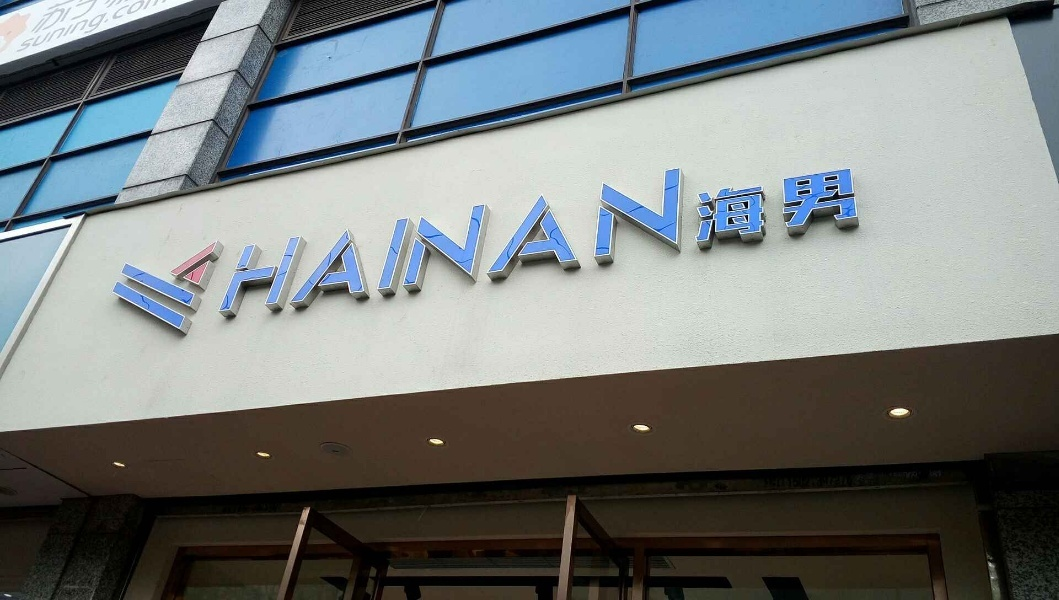text: (241, 162, 256, 326), (257, 162, 272, 326), (273, 162, 288, 326), (289, 162, 304, 326), (305, 162, 320, 326), (321, 162, 336, 326), (337, 162, 352, 326), (353, 162, 368, 326), (369, 162, 384, 326), (385, 162, 400, 326), (401, 162, 416, 326), (417, 162, 432, 326), (433, 162, 448, 326), (449, 162, 464, 326), (465, 162, 480, 326), (481, 162, 496, 326), (497, 162, 512, 326), (513, 162, 528, 326), (529, 162, 544, 326), (545, 162, 560, 326), (561, 162, 576, 326), (577, 162, 592, 326), (593, 162, 608, 326), (609, 162, 624, 326), (625, 162, 640, 326), (641, 162, 656, 326), (657, 162, 672, 326), (673, 162, 688, 326), (705, 166, 720, 256), (721, 166, 736, 256), (737, 166, 752, 256), (753, 166, 768, 256), (769, 166, 784, 256), (785, 166, 800, 256), (801, 166, 816, 256), (817, 166, 832, 256), (833, 166, 848, 256), (849, 166, 864, 256), (694, 166, 704, 256), (235, 162, 240, 326), (689, 162, 690, 326)
